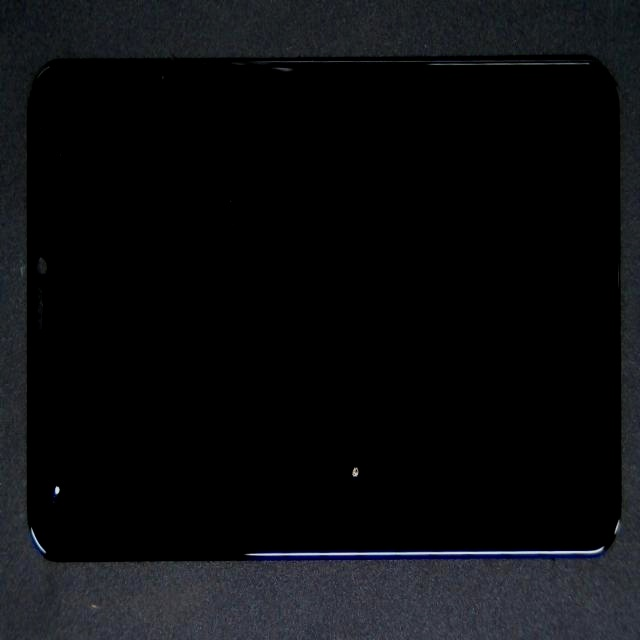stain: (192, 208, 526, 640), (34, 199, 79, 640)
